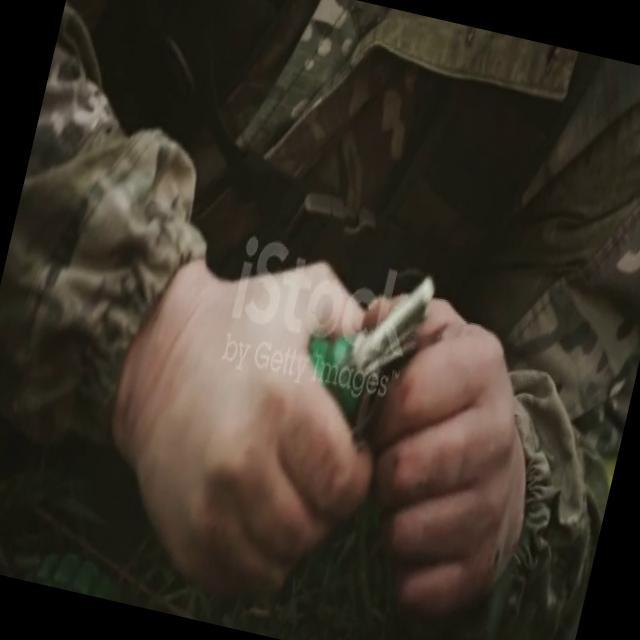grenade: (303, 251, 446, 423)
